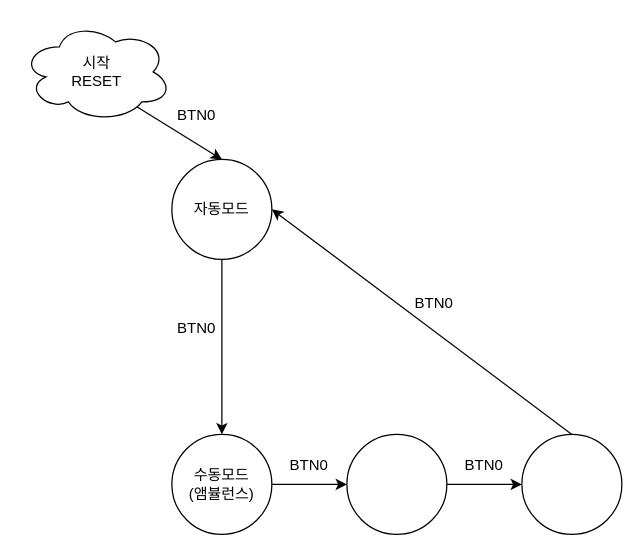
This 644x556 diagram has some shape labels left out. Each missing label, with the centre of its shape:
"수동모드 (소방차)" belongs at [396,483].
"수동모드 (어린이집)" belongs at [571,483].
